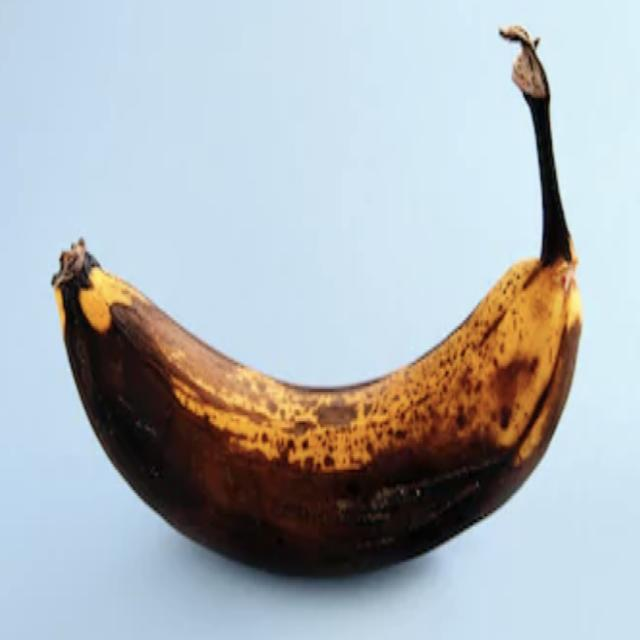Rotten: (38, 14, 592, 595)
